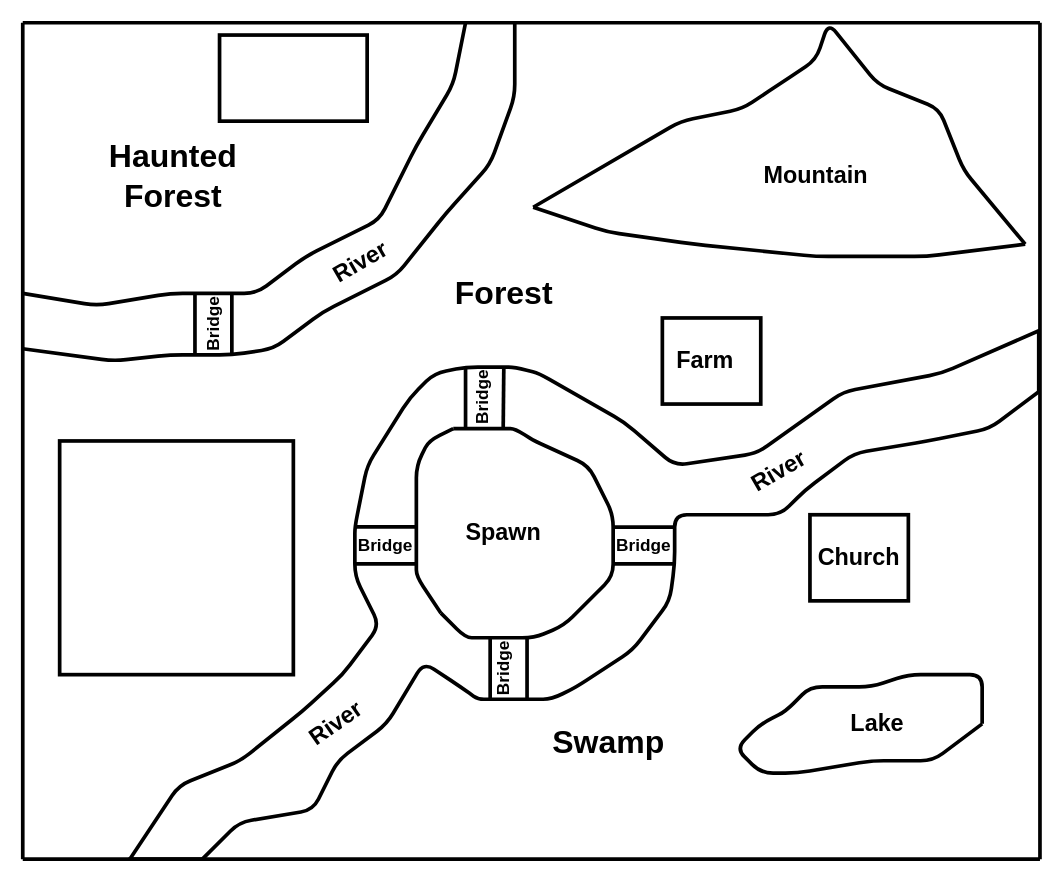
Image size: 1064x883. Some labels were removed from this diagram. The shapes that lost their labels are listed below. From the top down, each one's centre as x and y in pixels, then its label:
[292,77]: Graveyard
[176,557]: Maze
